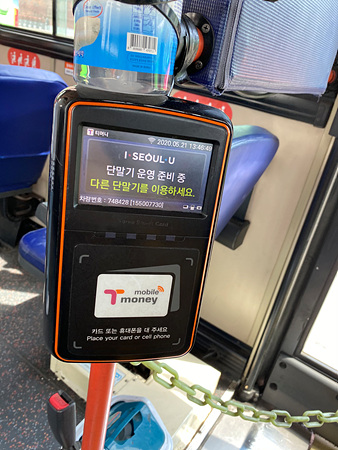terminal: (60, 93, 213, 362)
